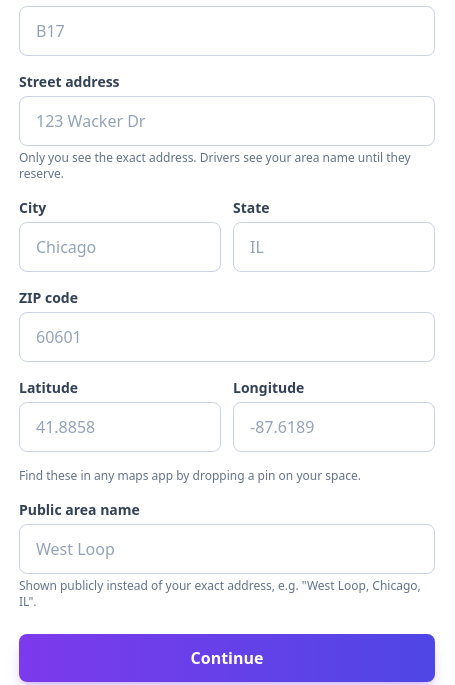
Scenario: SpaceWizard › blocks Continue until the location fields are valid
The image size is (455, 685).
(page scrolled)
Click the button "Continue". click: (227,658)
box: 19,634 -> 435,682
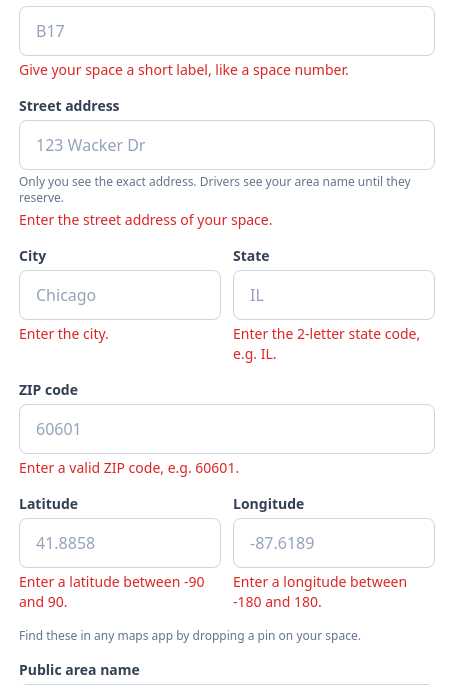
Expected: the text "Give your space a short label, like a space number." is shown, 19,60 -> 349,79
Expected: the text "Enter a valid ZIP code, e.g. 60601." is shown, 19,458 -> 239,477
